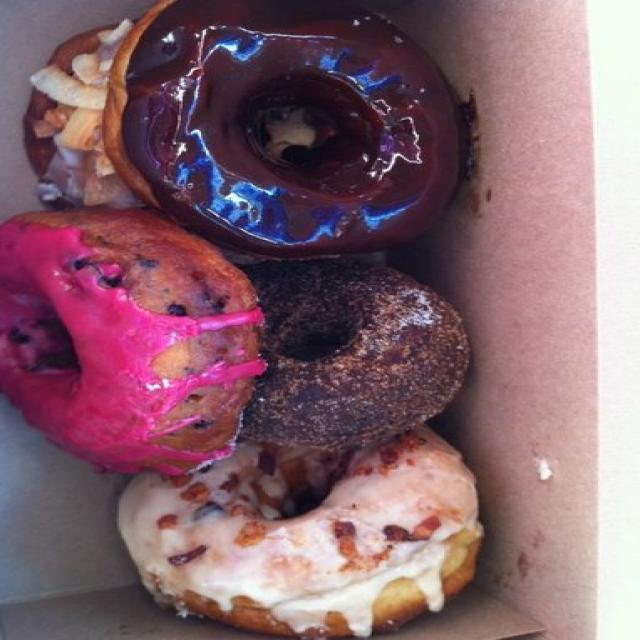Donuts: (3, 2, 515, 640)
